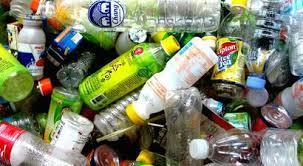Plastic bottle: (4, 1, 303, 166)
